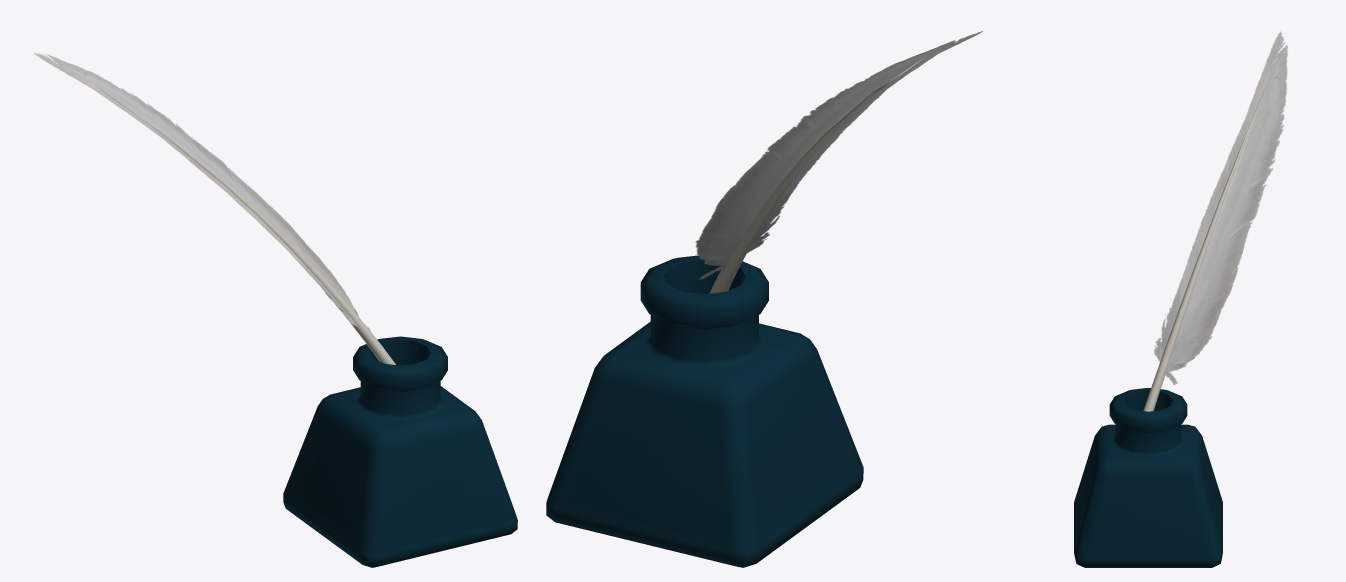
Rendered from Inkwell-Mats.glb.
The picture shows the model from 3 angles, left to right: view 1: azimuth 30°, elevation 25°; view 2: azimuth 150°, elevation 25°; view 3: azimuth 270°, elevation 25°; orthographic projection. The views are drawn at different scales.
Parts seen in each view (by area): view 1: polySurface7; view 2: polySurface7; view 3: polySurface7.
Part boxes in pixels (<box>): polySurface7: <box>34,53,517,567</box>; polySurface7: <box>546,31,982,567</box>; polySurface7: <box>1074,31,1287,567</box>.
Size of the model in its own units: 1.02 by 1.22 by 0.7035.
1 material, 1 textured.
